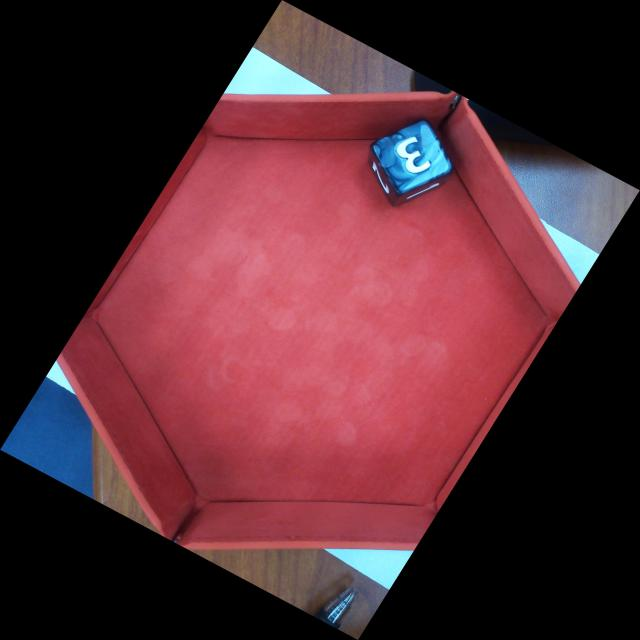dice: (368, 117, 459, 200)
